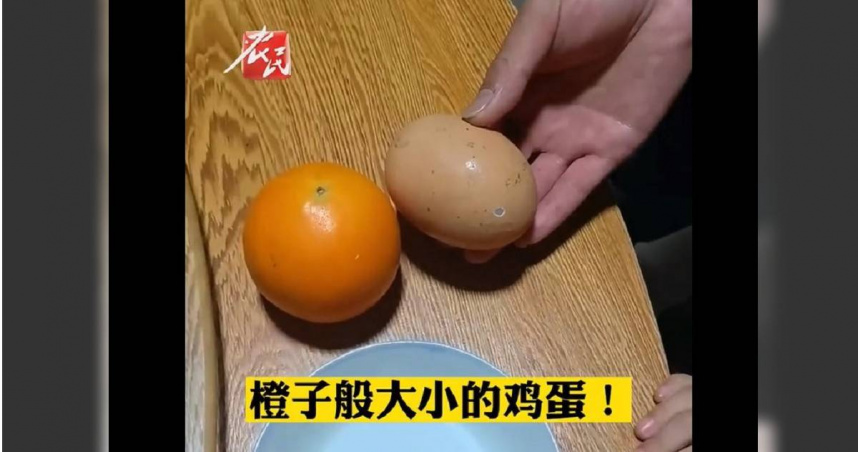orange: (242, 147, 402, 338)
